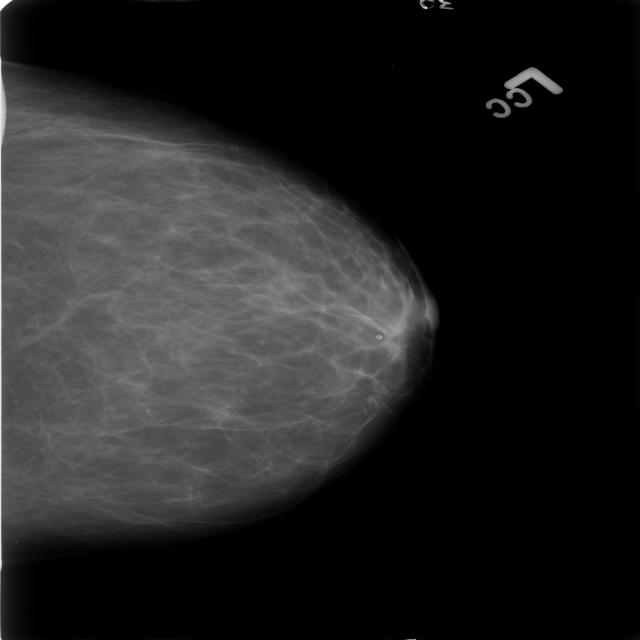cancer: (325, 273, 478, 418)
